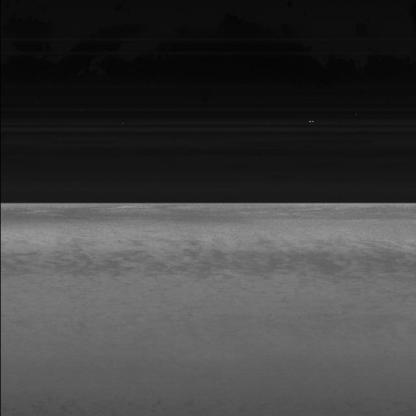silk_spot: (162, 235, 277, 274)
